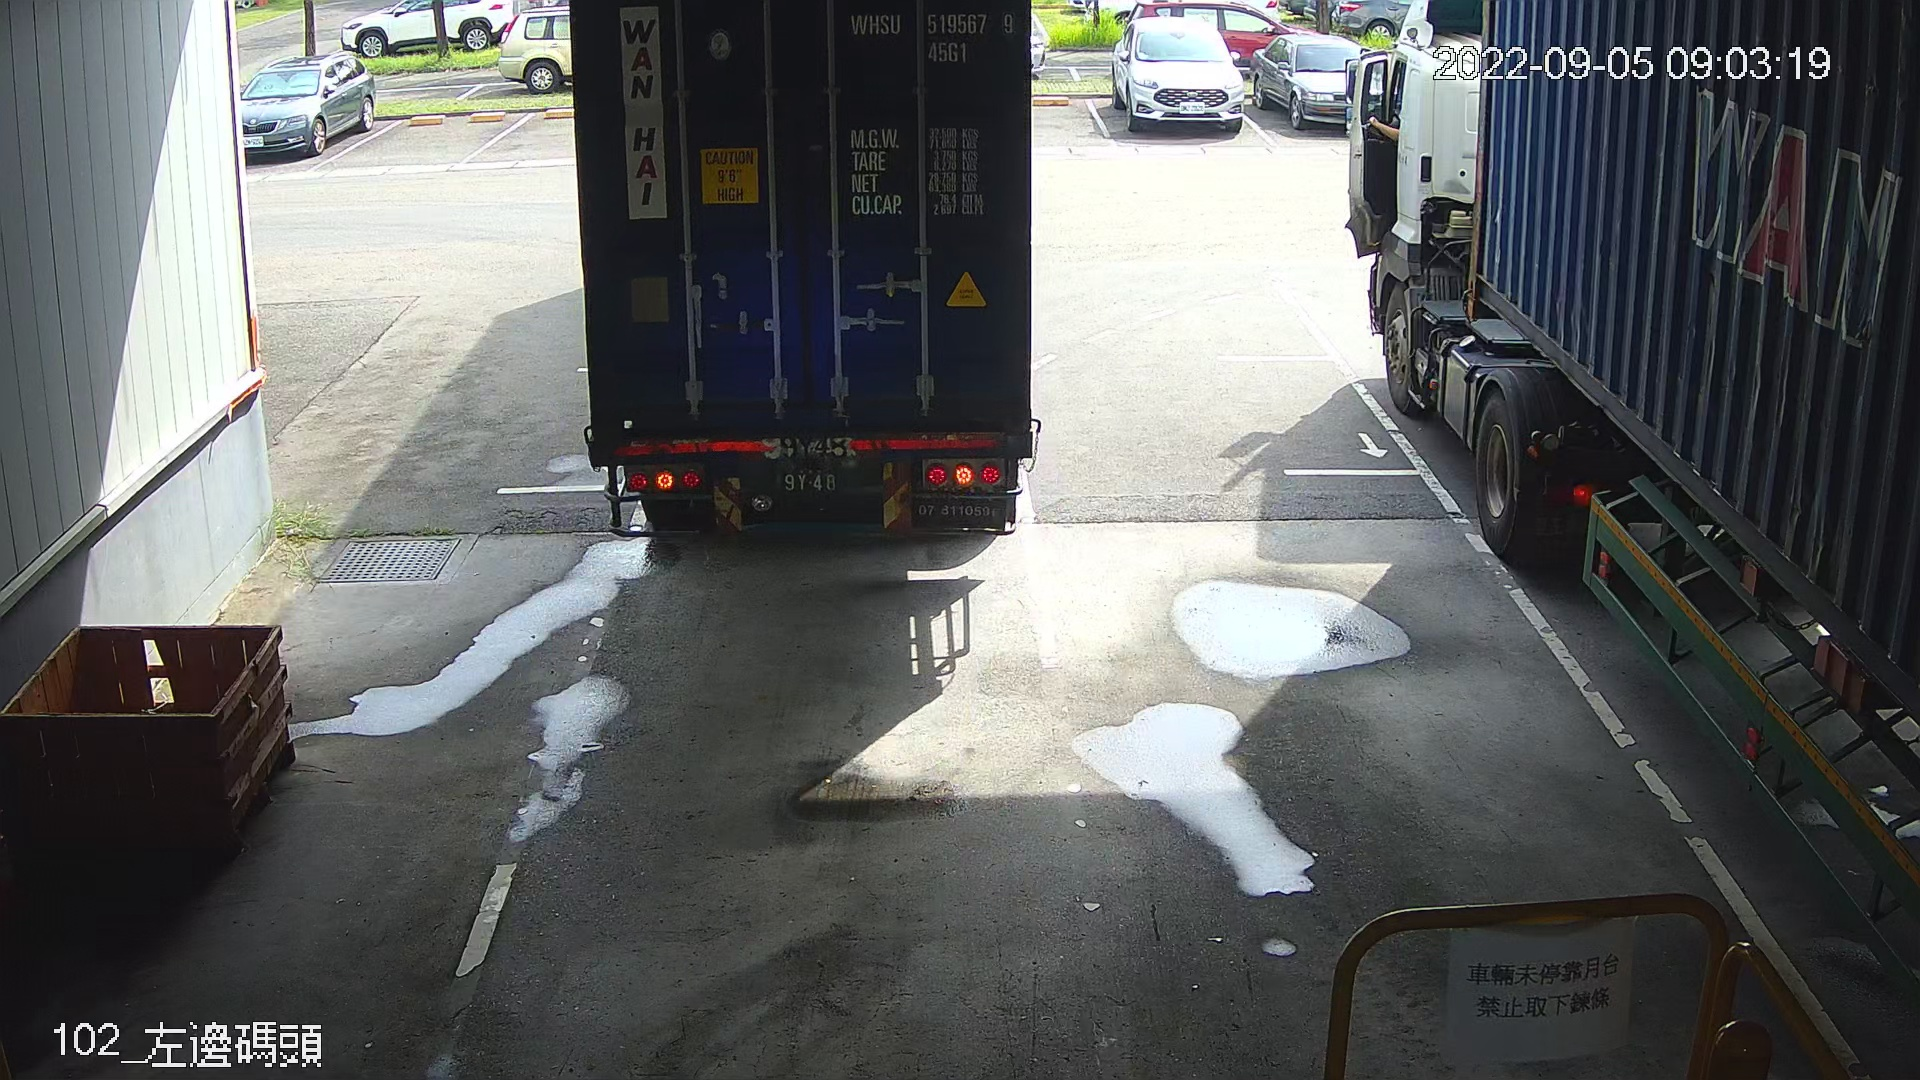container: (847, 4, 1023, 73)
